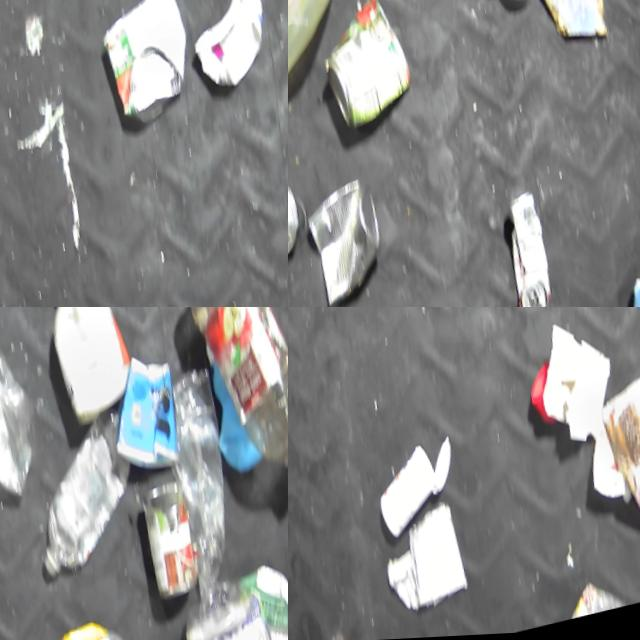can: (89, 0, 210, 138), (309, 0, 428, 140), (295, 170, 404, 307), (136, 479, 216, 613), (404, 495, 489, 615), (496, 187, 572, 307), (288, 176, 314, 266), (50, 616, 145, 640)
milk_jug: (31, 307, 153, 436), (288, 0, 357, 117)
plastic_bottle: (158, 307, 288, 514), (19, 405, 159, 588), (174, 572, 288, 640)
